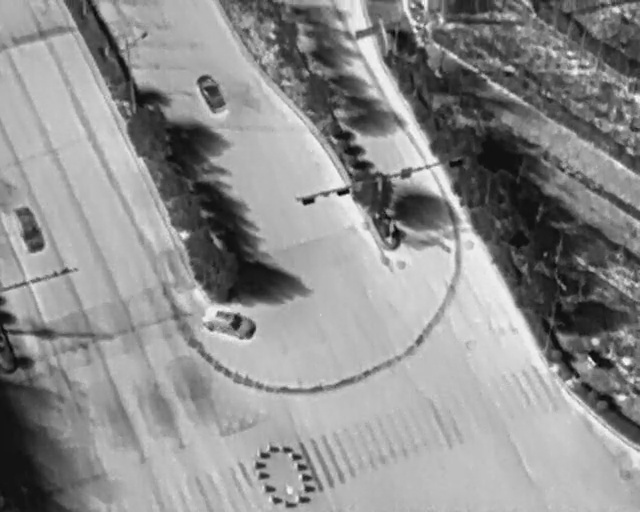Car: (198, 303, 259, 343), (9, 200, 51, 257), (192, 70, 228, 115)
